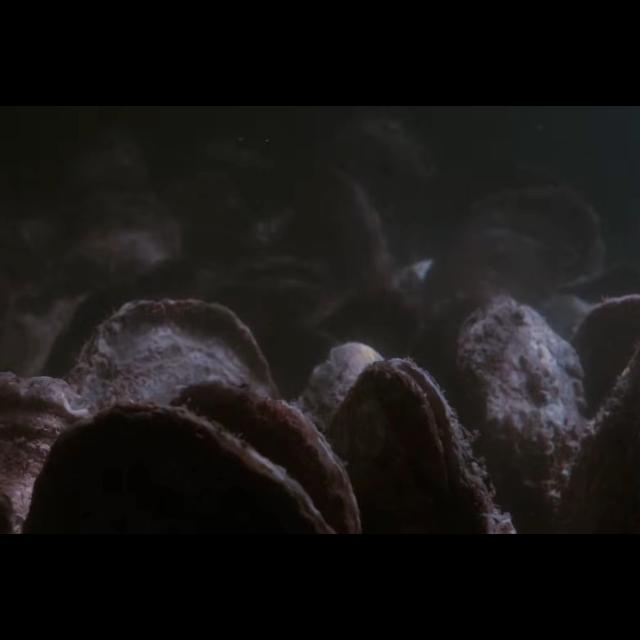Oyster-Closed: (22, 403, 334, 535), (167, 380, 363, 534), (0, 373, 98, 535)
Oyster-Indeterminate: (62, 298, 278, 534), (452, 296, 592, 534), (421, 186, 605, 330), (294, 343, 386, 535), (293, 167, 395, 296), (60, 193, 184, 284), (570, 296, 640, 446)
Oyster-Open: (322, 358, 514, 534), (212, 251, 338, 329)
